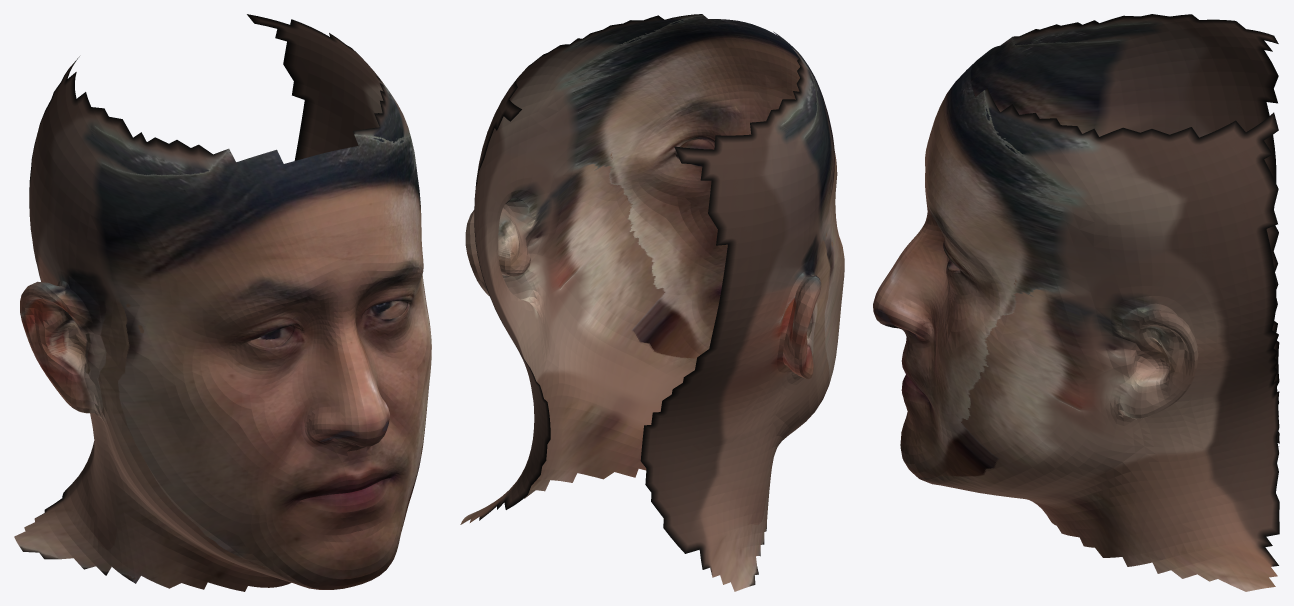
Rendered from baseline.glb.
3 renders of one model, left to right at view 1: azimuth 30°, elevation 25°; view 2: azimuth 150°, elevation 25°; view 3: azimuth 270°, elevation 25°, orthographic. The views are drawn at different scales.
Parts seen in each view (by area): view 1: geometry_0; view 2: geometry_0; view 3: geometry_0.
Part boxes in pixels (x1,y1,x2,y2): geometry_0: [14, 14, 431, 591]; geometry_0: [460, 14, 844, 591]; geometry_0: [873, 14, 1279, 591].
Bounding box in the file's own units: 0.1828 × 0.22 × 0.1804.
Materials: 1 (1 with a texture image).
